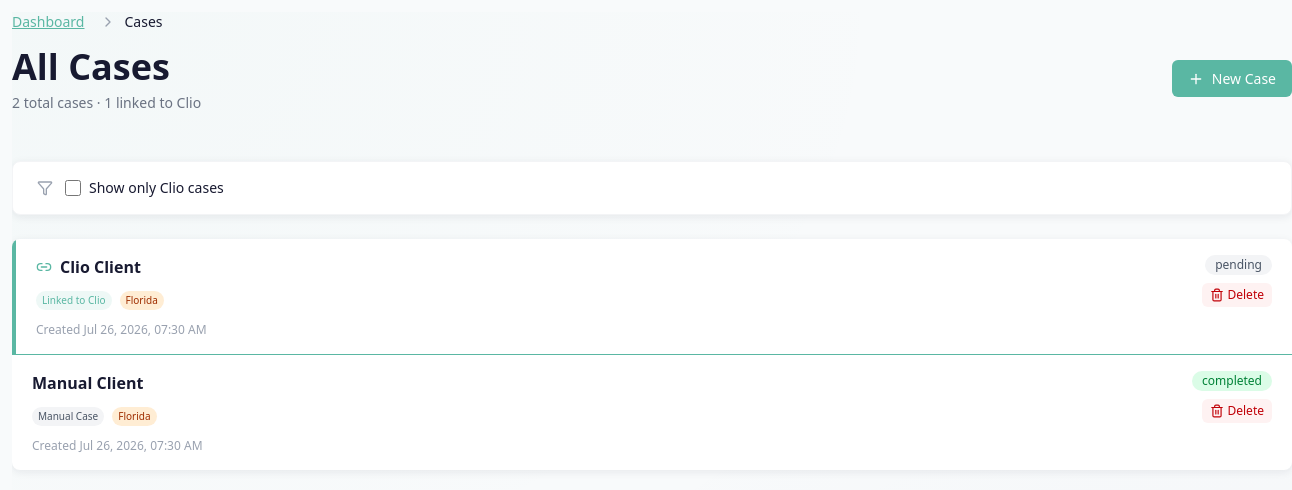
Test: Cases List Page - Button Interactions › Clio filter checkbox › filters cases when checkbox is toggled
Expected: the text "Clio Client" is shown, 60,255 -> 141,279
Expected: the text "Manual Client" is shown, 32,371 -> 143,395
Click the checkbox labelled "Show only Clio cases".
click(73, 188)  # box 65,180 -> 81,196
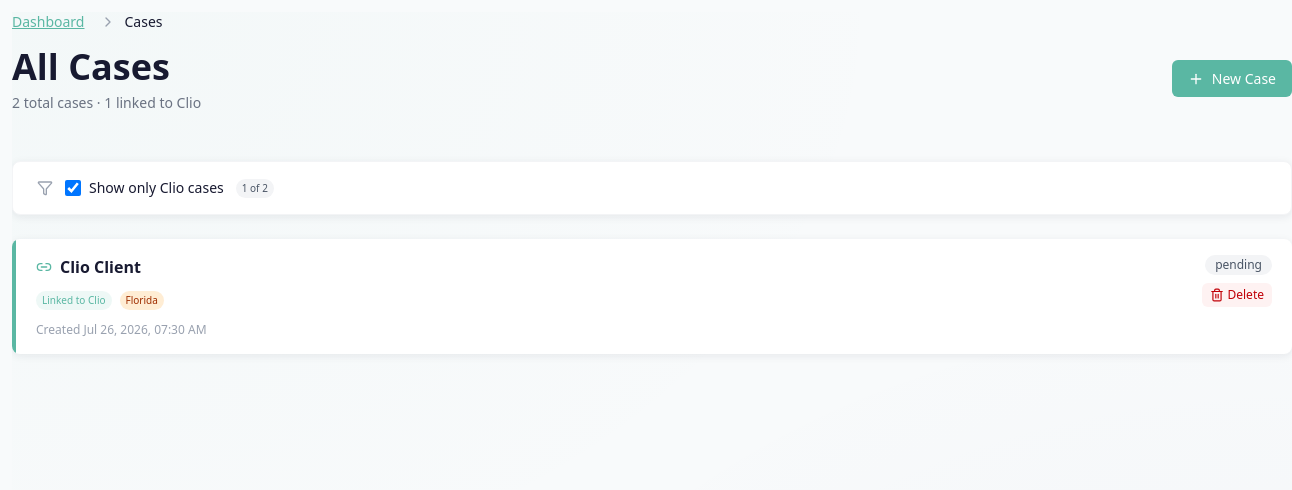
Expected: the text "Clio Client" is shown, 60,255 -> 141,279
Expected: the link "Manual Client" is gone
Expected: the text "1 of 2" is shown, 236,178 -> 274,198
